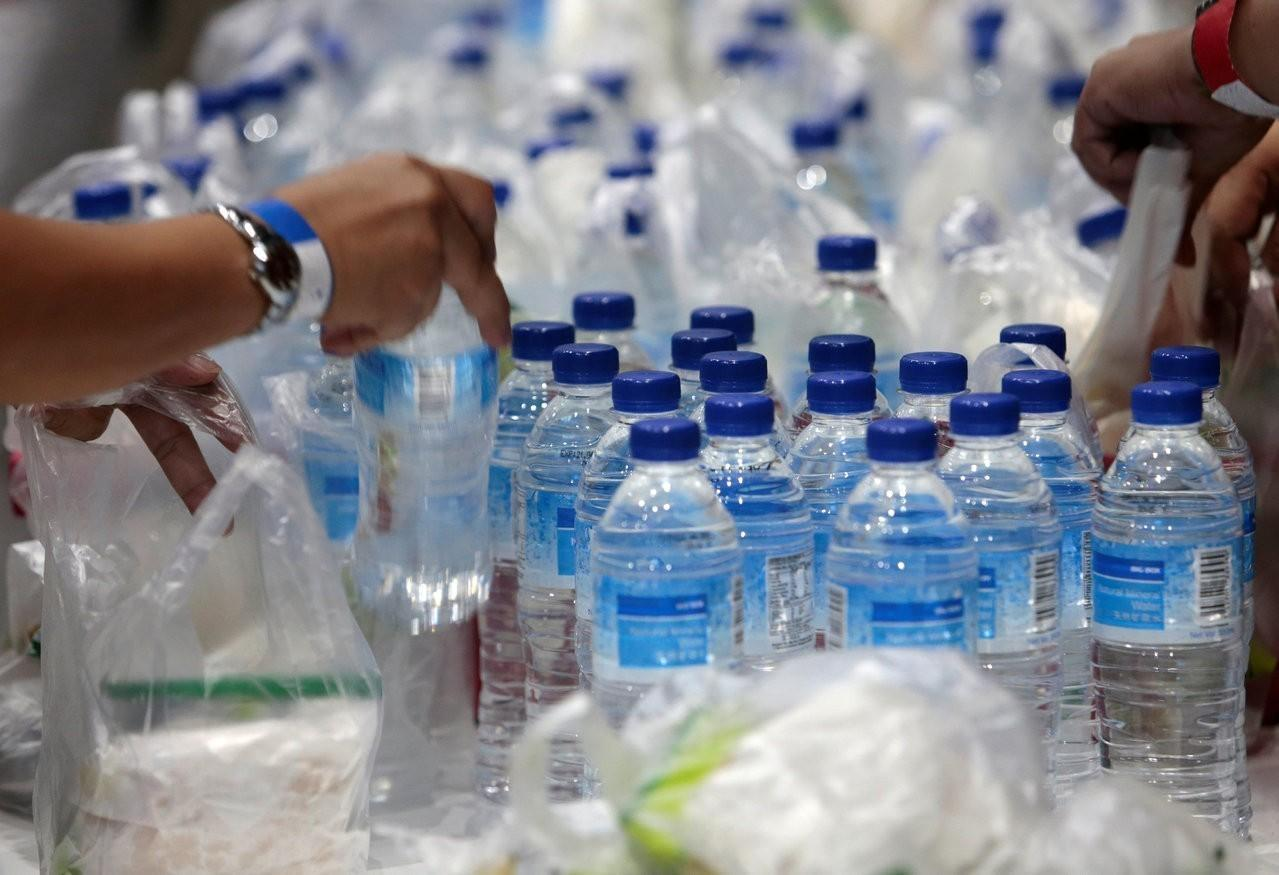bottle: (1082, 365, 1256, 838), (470, 311, 580, 785), (942, 389, 1048, 748), (824, 419, 982, 657), (594, 417, 737, 676), (698, 393, 817, 660), (994, 365, 1102, 585), (780, 367, 885, 489), (1144, 347, 1230, 395)
